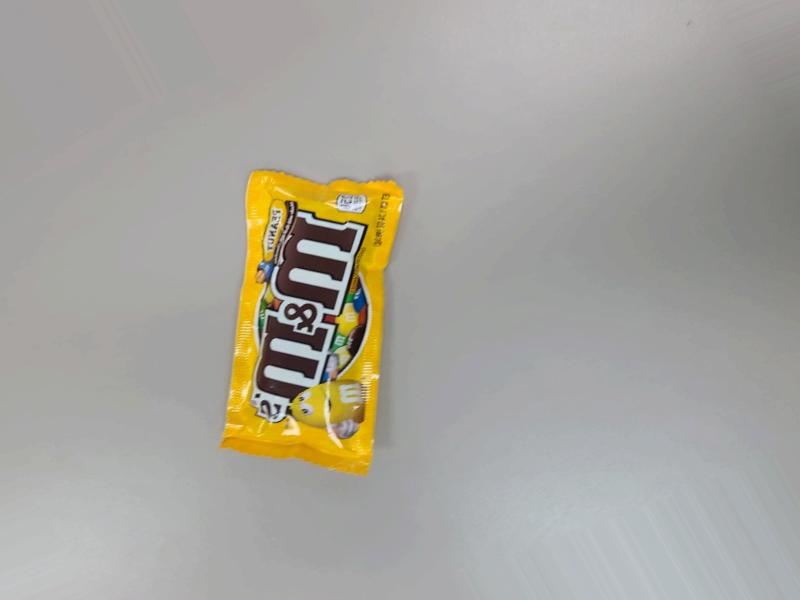m&m: (209, 140, 409, 479)
